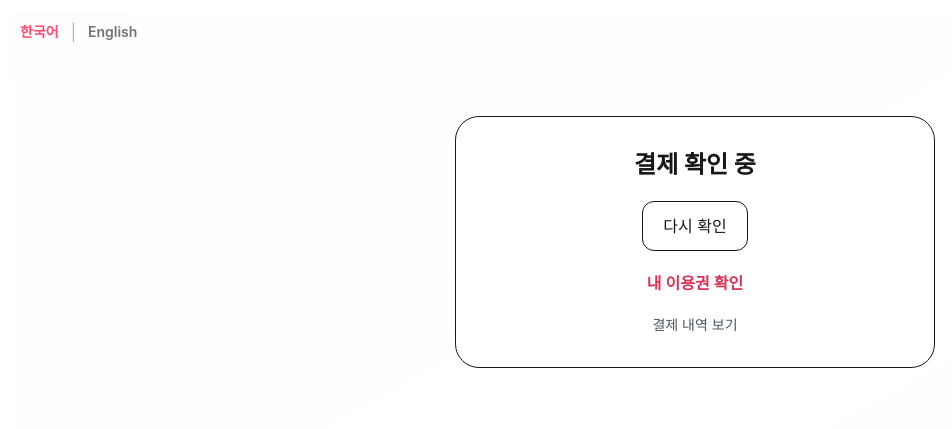
Test: discards a late Korean response after switching to English
Click the button "English". click: (113, 32)
box: [80,12,145,52]
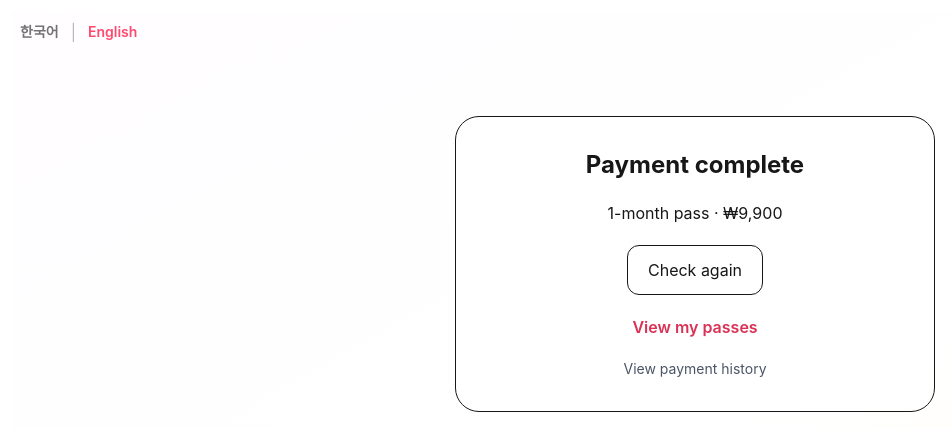
Expected: the text "1-month pass · ₩9,900" is shown, [608,203,782,223]
